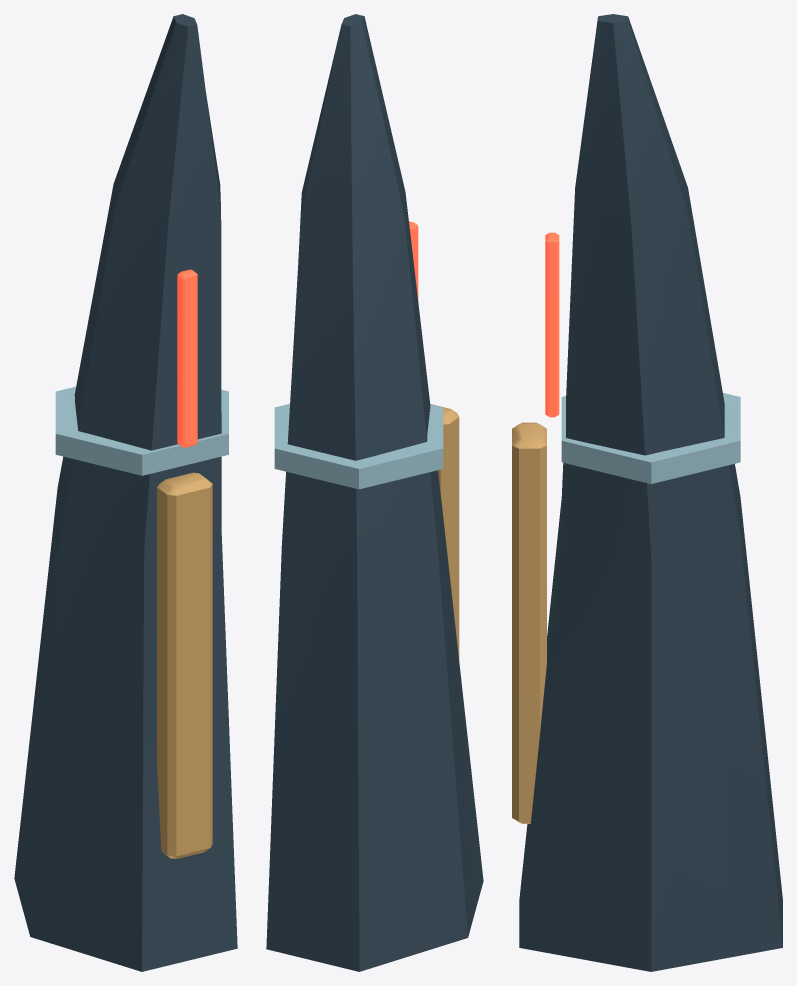
The model's file is CitadelSpire.glb.
3 views of the same model, side by side, from view 1: azimuth 30°, elevation 25°; view 2: azimuth 150°, elevation 25°; view 3: azimuth 270°, elevation 25° (orthographic). The views are drawn at different scales.
Parts seen in each view (by area): view 1: spire; view 2: spire; view 3: spire.
Part boxes in pixels (x1,y1,x2,y2): spire: (14, 14, 237, 971); spire: (266, 14, 483, 971); spire: (512, 14, 782, 971).
Bounding box in the file's own units: 2.18 × 9.4 × 2.49.
